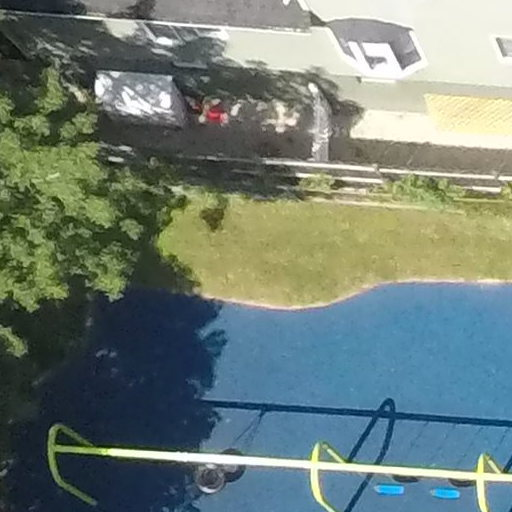container: (201, 95, 228, 124)
tire: (190, 462, 232, 498)
